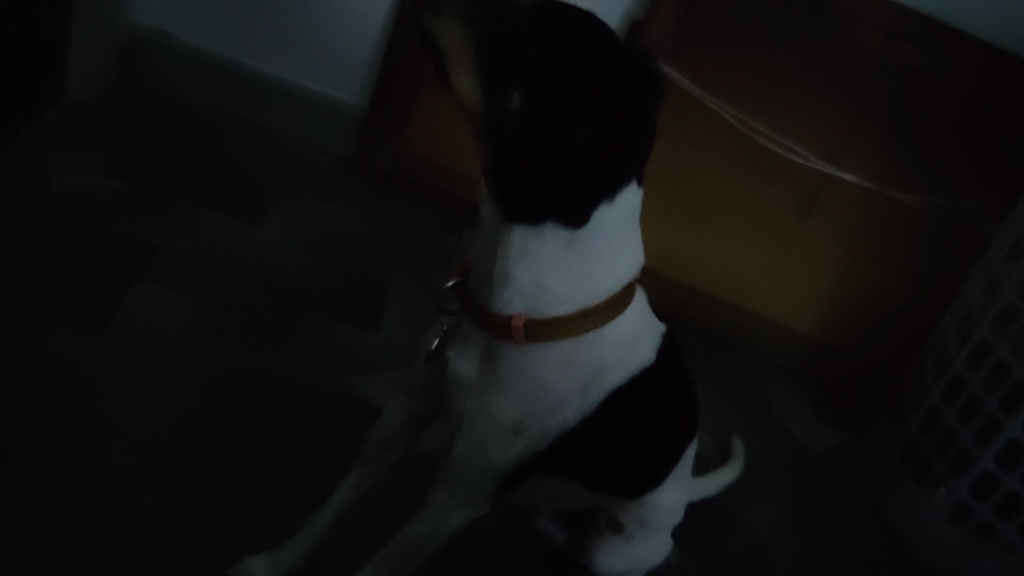Dog: (249, 0, 763, 576)
